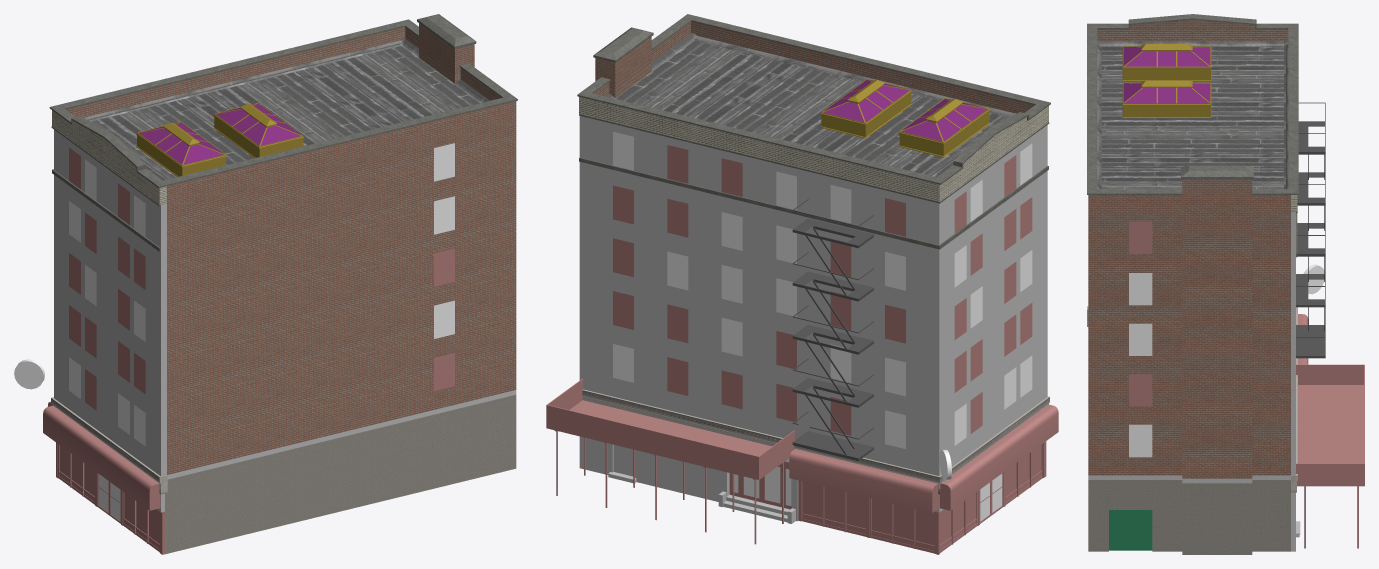
Rendered from mcp_building_09_LOD_1.FBX.
3 renders of one model, left to right at view 1: azimuth 30°, elevation 25°; view 2: azimuth 150°, elevation 25°; view 3: azimuth 270°, elevation 25°, orthographic. The views are drawn at different scales.
Parts seen in each view (by area): view 1: mcp_building_09_brick_02, mcp_building_09_brick_03, mcp_building_09_brick_01, mcp_building_09_rooftop, mcp_building_09, mcp_building_09_concrete_02, mcp_building_09_illumination, mcp_building_09_props_02, mcp_building_09_concrete_03, mcp_building_09_concrete_04; view 2: mcp_building_09_brick_01, mcp_building_09, mcp_building_09_rooftop, mcp_building_09_illumination, mcp_building_09_concrete_02, mcp_building_09_props_01, mcp_building_09_props_02, mcp_building_09_brick_02, mcp_building_09_marble, mcp_building_09_concrete_04, mcp_building_09_concrete_01; view 3: mcp_building_09_brick_02, mcp_building_09_rooftop, mcp_building_09_brick_03, mcp_building_09, mcp_building_09_concrete_02, mcp_building_09_props_02, mcp_building_09_props_01, mcp_building_09_illumination, mcp_building_09_door_02, mcp_building_09_brick_01, mcp_building_09_concrete_03, mcp_building_09_concrete_04.
Boxes of the visible parts, bbox=[...] form: mcp_building_09_brick_02: bbox=[66, 23, 516, 474]; mcp_building_09_brick_03: bbox=[165, 394, 516, 554]; mcp_building_09_brick_01: bbox=[52, 110, 166, 476]; mcp_building_09_rooftop: bbox=[83, 38, 489, 180]; mcp_building_09: bbox=[43, 147, 454, 554]; mcp_building_09_concrete_02: bbox=[49, 14, 517, 251]; mcp_building_09_illumination: bbox=[14, 143, 454, 521]; mcp_building_09_props_02: bbox=[136, 103, 303, 176]; mcp_building_09_concrete_03: bbox=[167, 390, 516, 479]; mcp_building_09_concrete_04: bbox=[51, 397, 167, 494]; mcp_building_09_brick_01: bbox=[579, 97, 1048, 475]; mcp_building_09: bbox=[546, 145, 1058, 554]; mcp_building_09_rooftop: bbox=[605, 32, 1016, 177]; mcp_building_09_illumination: bbox=[613, 131, 1032, 521]; mcp_building_09_concrete_02: bbox=[577, 14, 1050, 249]; mcp_building_09_props_01: bbox=[792, 199, 873, 460]; mcp_building_09_props_02: bbox=[820, 79, 990, 157]; mcp_building_09_brick_02: bbox=[593, 21, 1034, 113]; mcp_building_09_marble: bbox=[579, 436, 943, 521]; mcp_building_09_concrete_04: bbox=[582, 389, 1049, 494]; mcp_building_09_concrete_01: bbox=[608, 472, 795, 523]; mcp_building_09_brick_02: bbox=[1088, 20, 1290, 478]; mcp_building_09_rooftop: bbox=[1097, 39, 1288, 189]; mcp_building_09_brick_03: bbox=[1088, 480, 1290, 554]; mcp_building_09: bbox=[1129, 221, 1364, 548]; mcp_building_09_concrete_02: bbox=[1087, 14, 1298, 257]; mcp_building_09_props_02: bbox=[1122, 44, 1211, 117]; mcp_building_09_props_01: bbox=[1296, 102, 1325, 358]; mcp_building_09_illumination: bbox=[1129, 264, 1324, 457]; mcp_building_09_door_02: bbox=[1109, 510, 1152, 550]; mcp_building_09_brick_01: bbox=[1291, 195, 1297, 475]; mcp_building_09_concrete_03: bbox=[1088, 475, 1290, 483]; mcp_building_09_concrete_04: bbox=[1087, 306, 1297, 492].
Size of the model in its own units: 2762 by 2676 by 1760.
